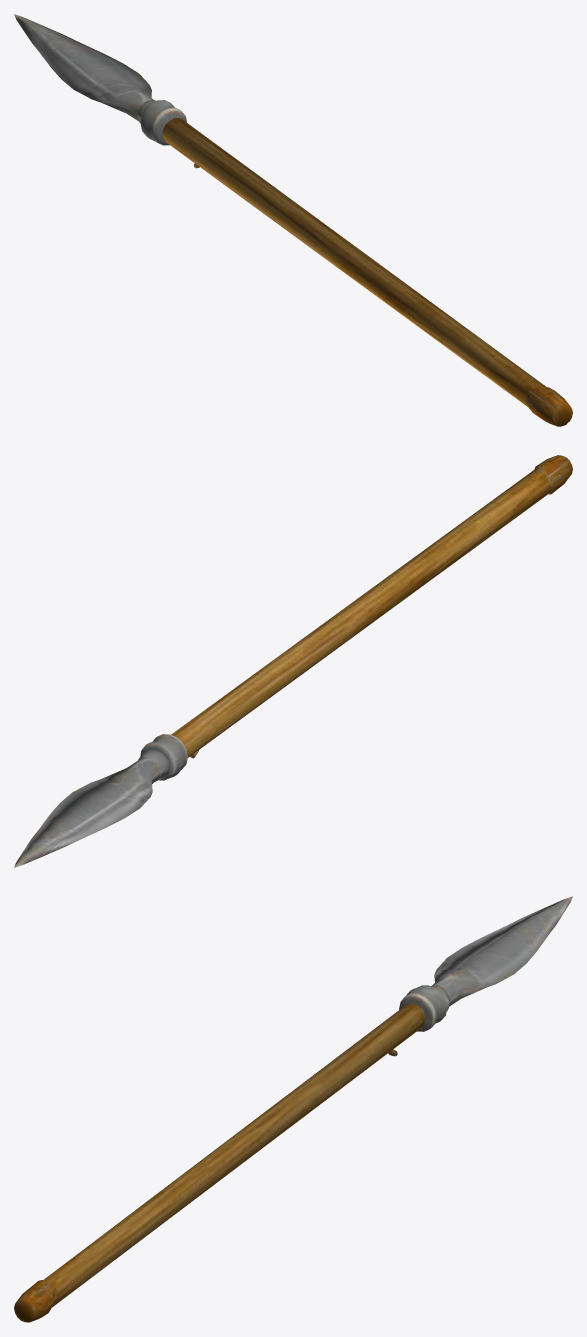
File: spear.fbx
3 views of the same model, one above another, from view 1: azimuth 30°, elevation 25°; view 2: azimuth 150°, elevation 25°; view 3: azimuth 330°, elevation 25° (orthographic). The views are drawn at different scales.
Visible parts, largest first — view 1: tripo_node_e0526569-a62e-4f7e-9d9a-0b02ccf64839; view 2: tripo_node_e0526569-a62e-4f7e-9d9a-0b02ccf64839; view 3: tripo_node_e0526569-a62e-4f7e-9d9a-0b02ccf64839.
Boxes of the visible parts, x1,y1,x2,y2 form: tripo_node_e0526569-a62e-4f7e-9d9a-0b02ccf64839: (14,14,572,426); tripo_node_e0526569-a62e-4f7e-9d9a-0b02ccf64839: (14,455,572,867); tripo_node_e0526569-a62e-4f7e-9d9a-0b02ccf64839: (14,896,572,1322).
Bounding box in the file's own units: 0.1588 × 0.0976 × 2.27.
1 material, 1 textured.
